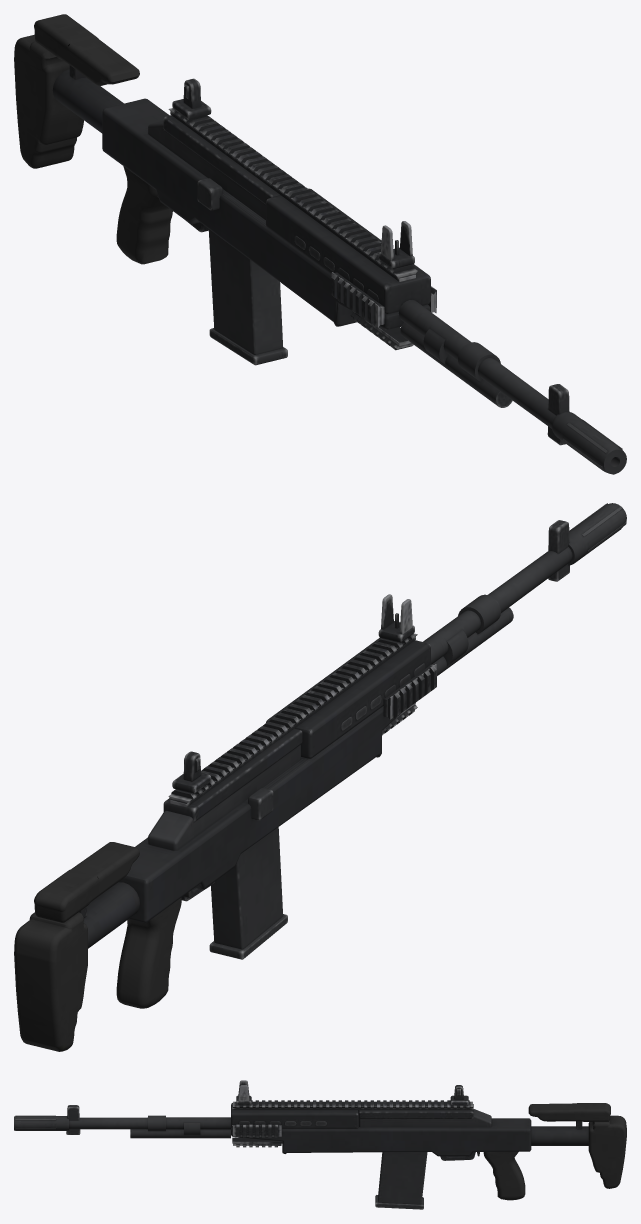
The model's file is dmr_mk14.glb.
3 views of the same model, one above another, from view 1: azimuth 30°, elevation 25°; view 2: azimuth 150°, elevation 25°; view 3: azimuth 270°, elevation 25° (orthographic). The views are drawn at different scales.
Parts seen in each view (by area): view 1: body, mag_mesh, bolt_mesh; view 2: body, mag_mesh, bolt_mesh; view 3: body, mag_mesh.
Part boxes in pixels (bbox=[...]): body: bbox=[14, 14, 626, 474]; mag_mesh: bbox=[208, 229, 287, 365]; bolt_mesh: bbox=[197, 178, 266, 226]; body: bbox=[14, 503, 626, 1051]; mag_mesh: bbox=[209, 827, 287, 959]; bolt_mesh: bbox=[248, 759, 310, 820]; body: bbox=[14, 1080, 626, 1200]; mag_mesh: bbox=[375, 1152, 427, 1209].
Size of the model in its own units: 0.0628 by 0.2119 by 0.96.
Materials: 1 (1 with a texture image).
